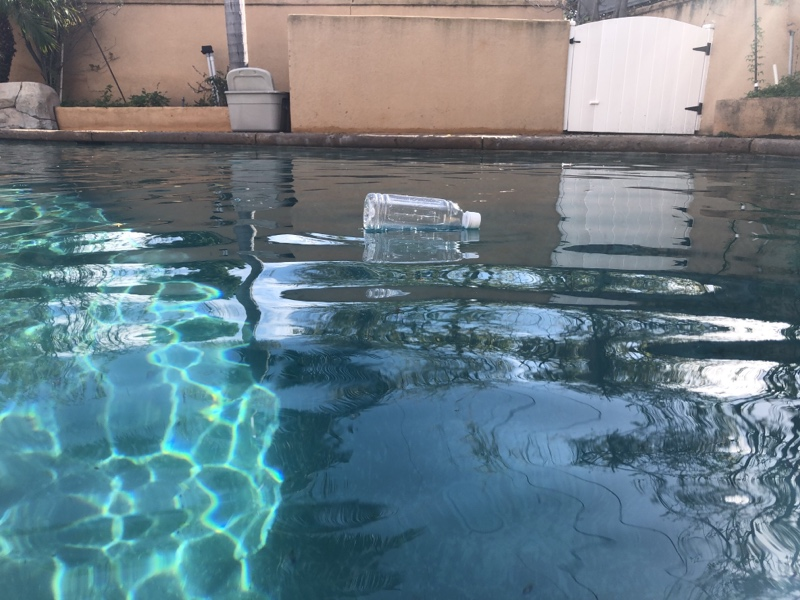Plastic Bottle: (360, 187, 485, 237)
